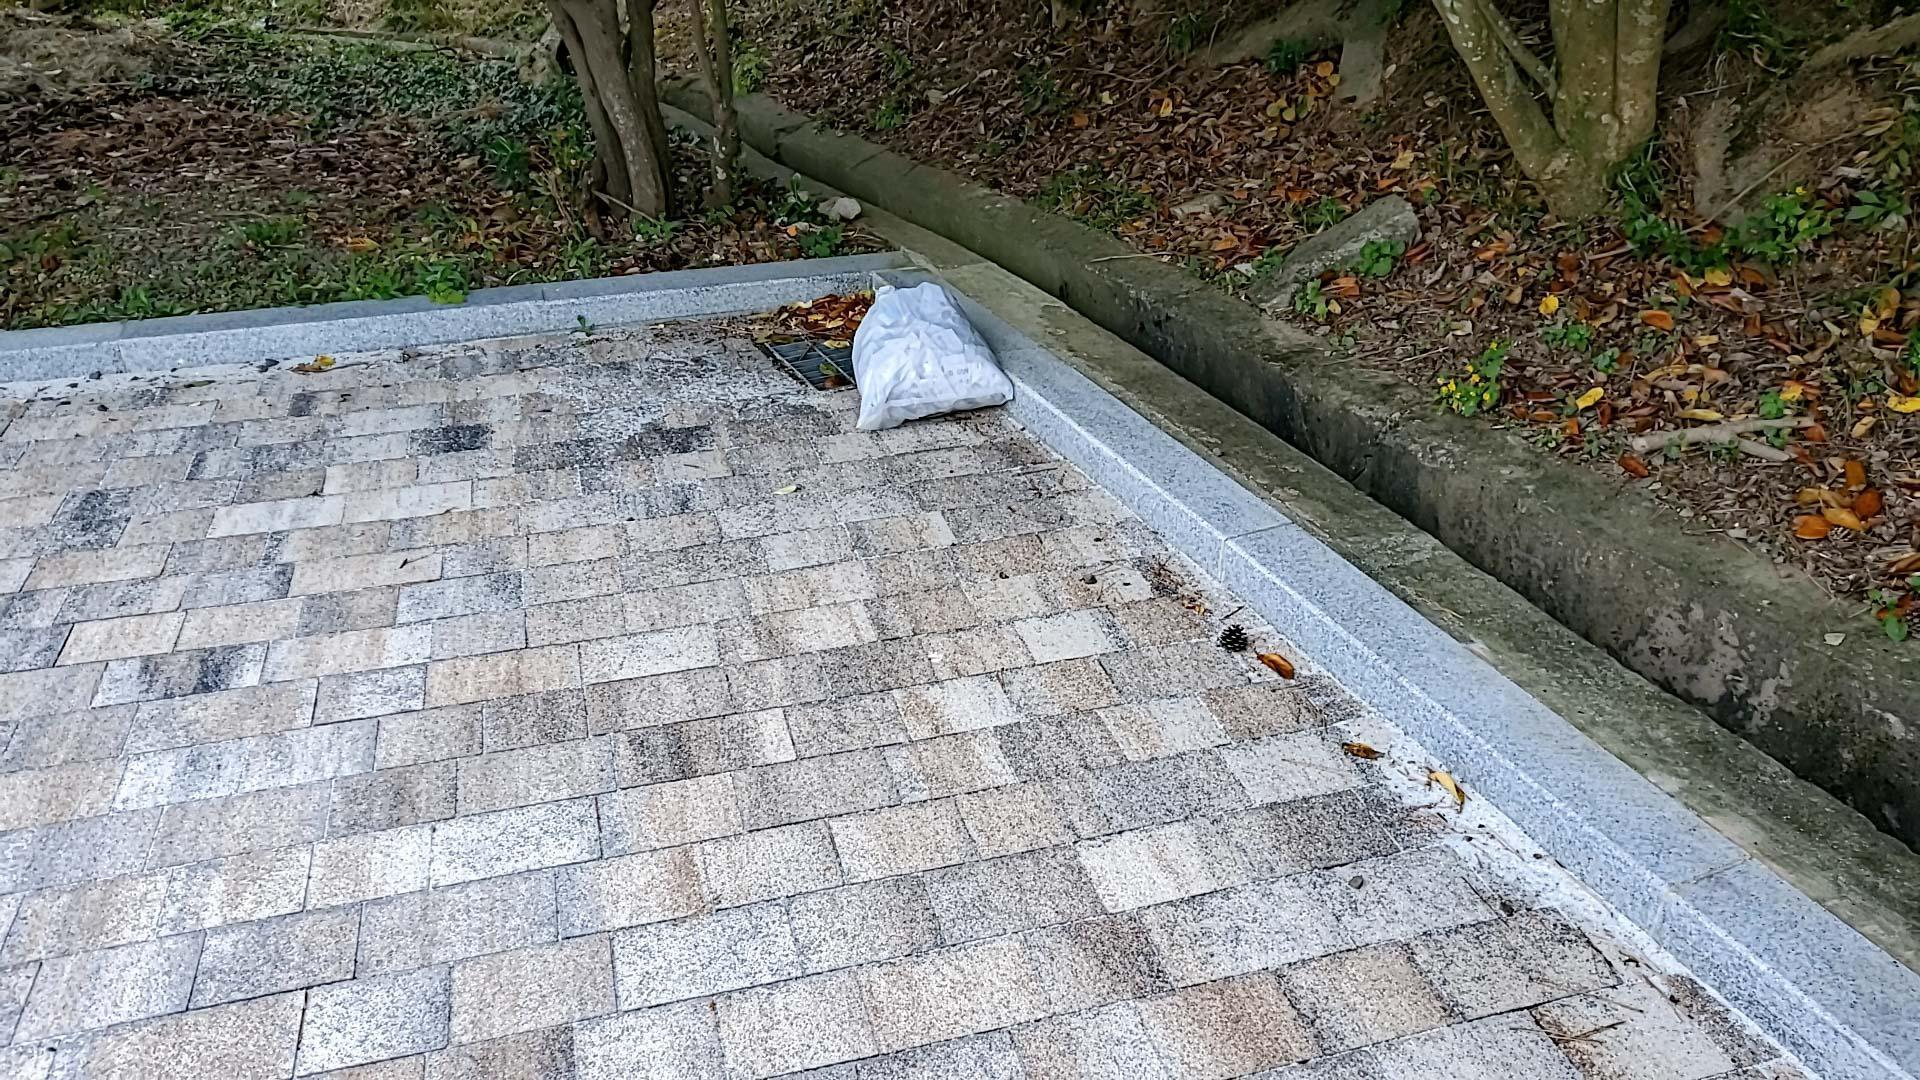white_bag: (837, 272, 1022, 440)
